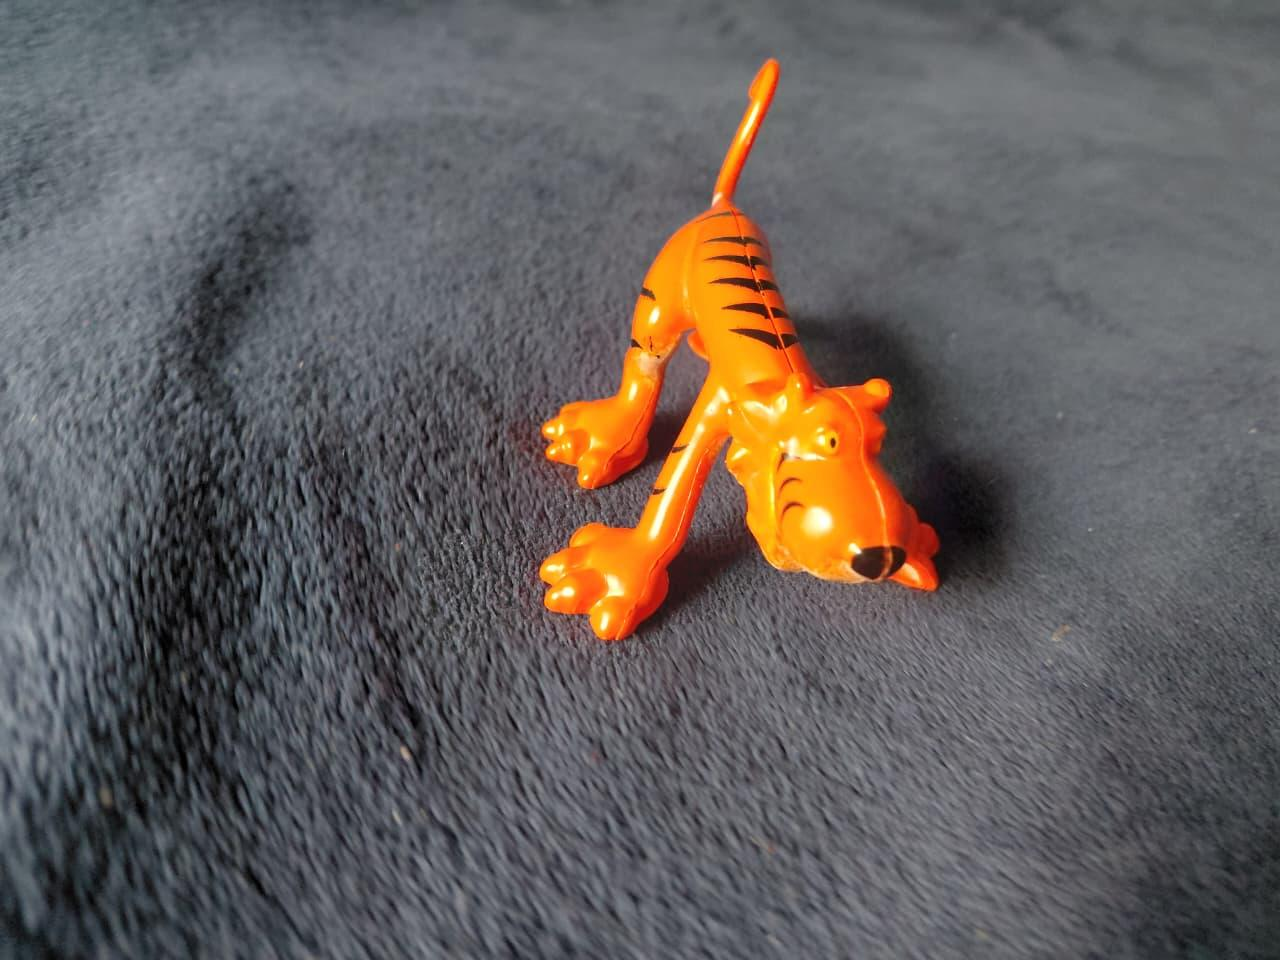tiger: (526, 52, 953, 644)
